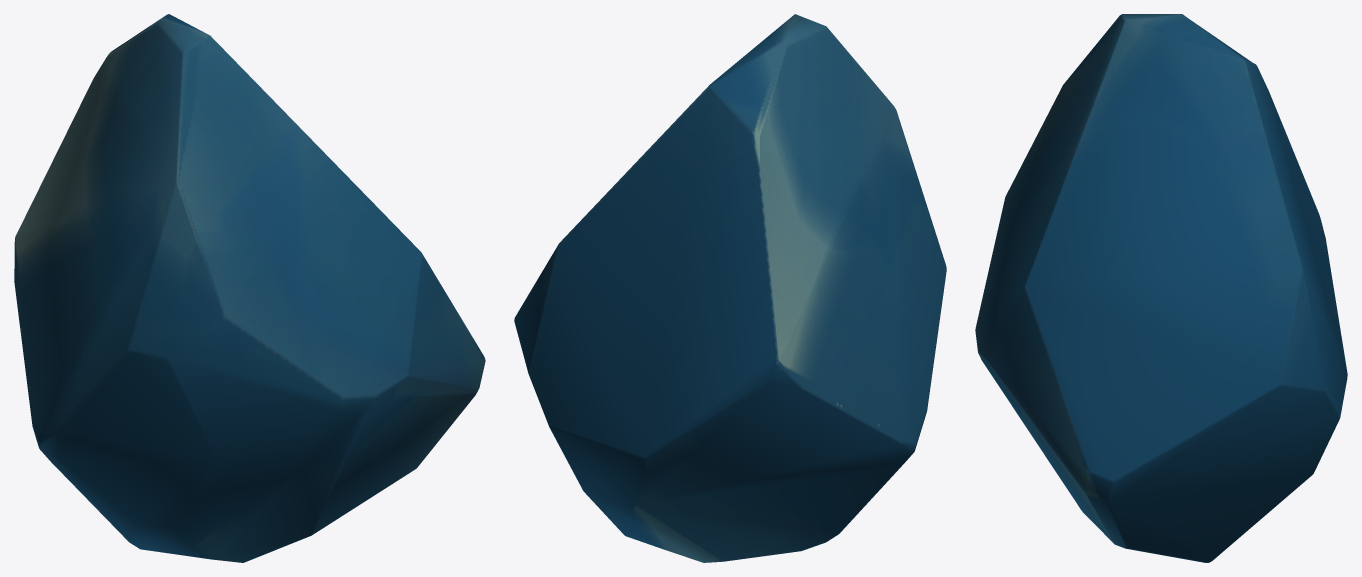
File: rock4.fbx
3 renders of one model, left to right at view 1: azimuth 30°, elevation 25°; view 2: azimuth 150°, elevation 25°; view 3: azimuth 270°, elevation 25°, orthographic. The views are drawn at different scales.
Visible parts, largest first — view 1: Rock04; view 2: Rock04; view 3: Rock04.
Part boxes in pixels (x1,y1,x2,y2): Rock04: (14,14,485,562); Rock04: (514,14,946,562); Rock04: (975,14,1347,562).
Bounding box in the file's own units: 2.07 × 2.66 × 1.79.
1 material, 1 textured.
